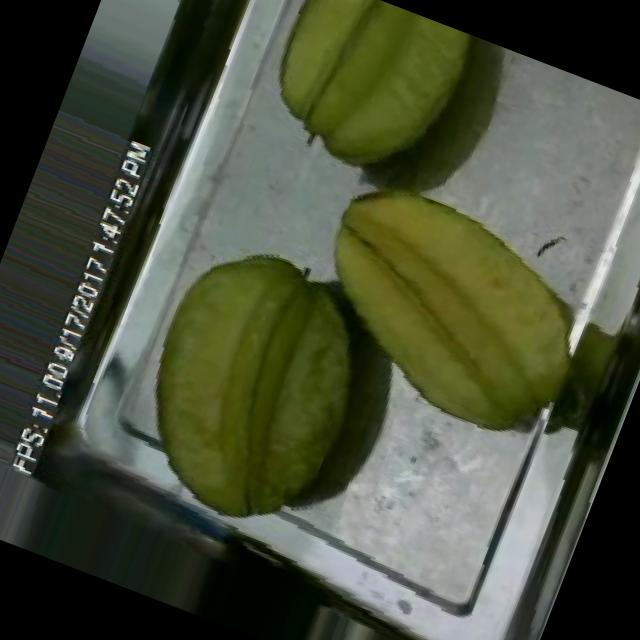fruit: (272, 151, 634, 473), (95, 211, 420, 563), (241, 0, 490, 203)
